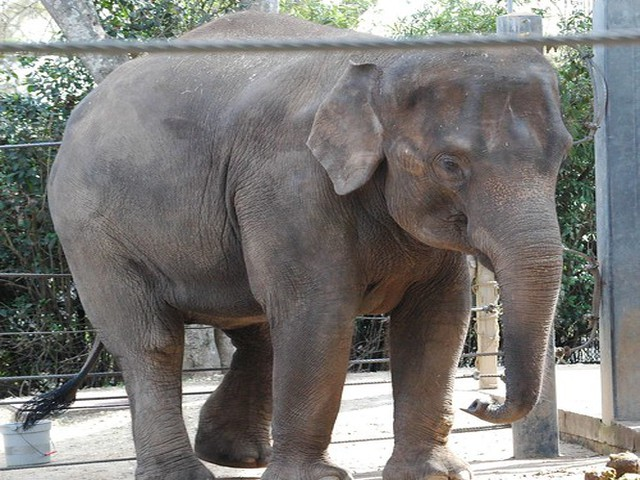Elephant: (37, 9, 576, 480)
